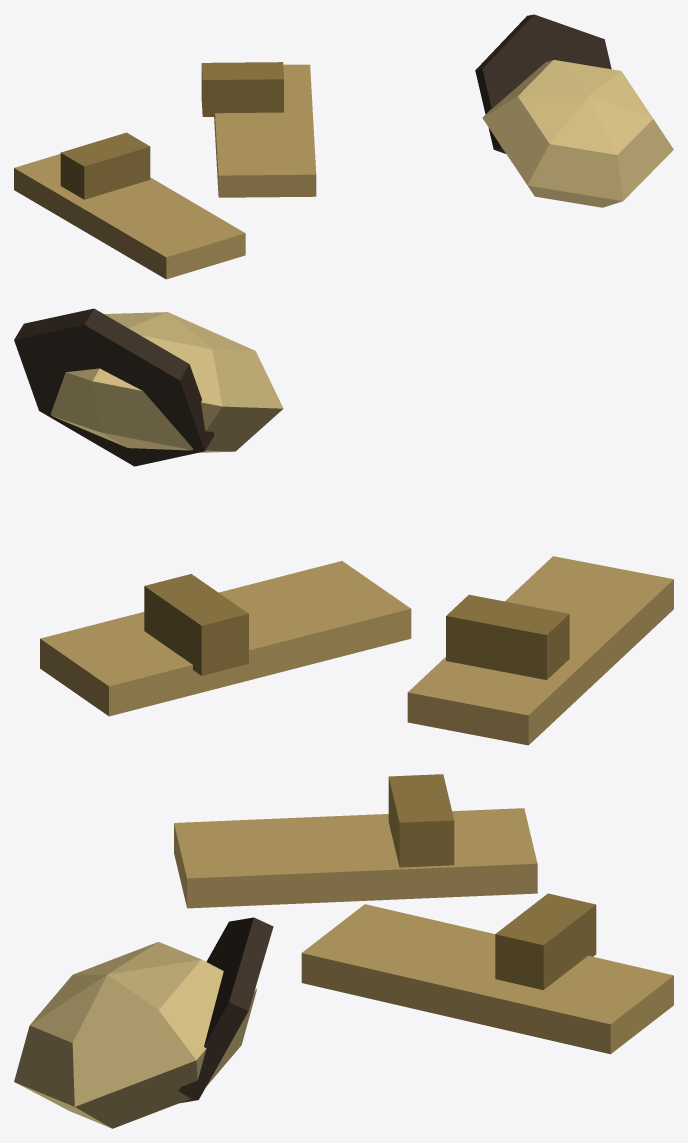
File: prop_camp_shoes.glb
The picture shows the model from 3 angles, top to bottom: view 1: azimuth 30°, elevation 25°; view 2: azimuth 150°, elevation 25°; view 3: azimuth 270°, elevation 25°; orthographic projection. The views are drawn at different scales.
Parts seen in each view (by area): view 1: prop_camp_shoes; view 2: prop_camp_shoes; view 3: prop_camp_shoes.
Part boxes in pixels (left/top/right/bottom): prop_camp_shoes: left=14, top=14, right=673, bottom=279; prop_camp_shoes: left=14, top=308, right=673, bottom=745; prop_camp_shoes: left=14, top=774, right=673, bottom=1128.
Size of the model in its own units: 0.6996 by 0.1982 by 0.5997.
